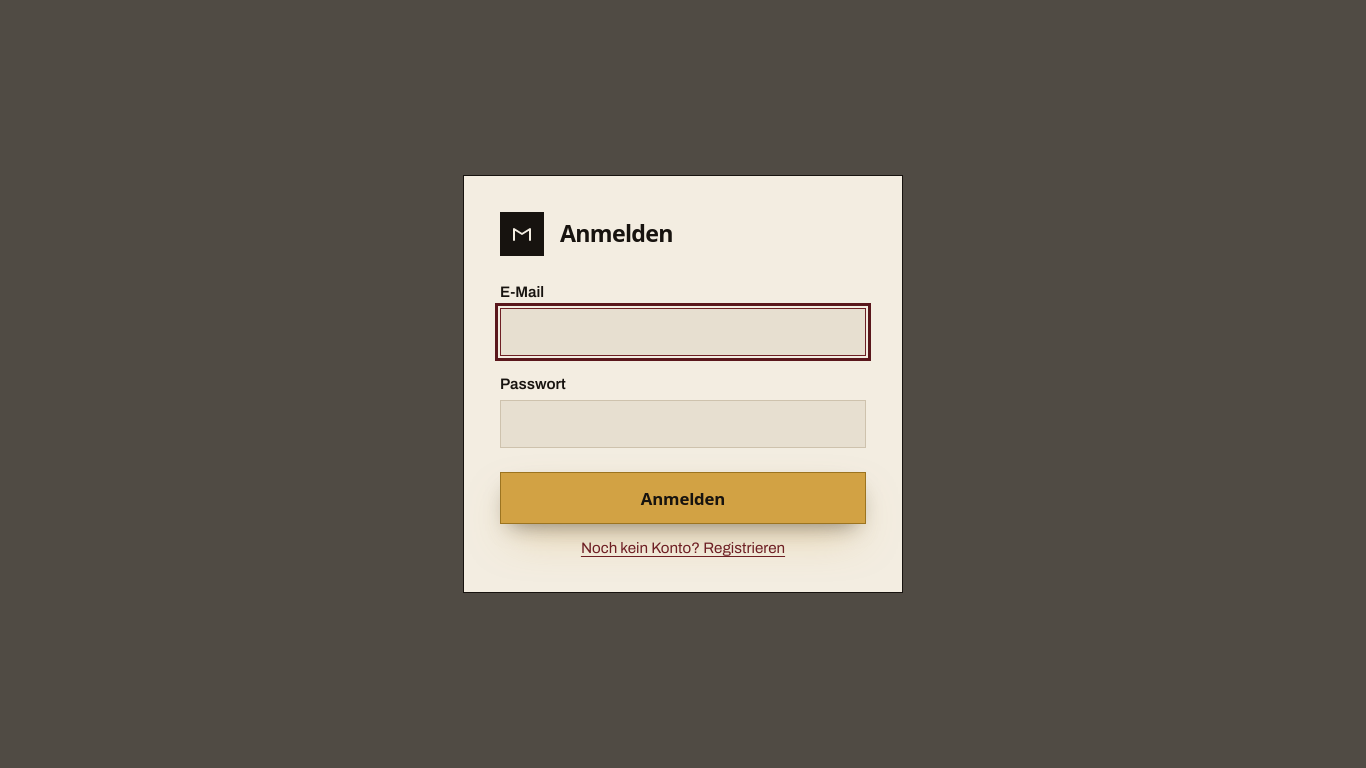
it: AuthModal › shows an error message when sign in fails
Type "a@b.com" into the field labelled "E-Mail" at (683, 332), box [500,308,866,356]
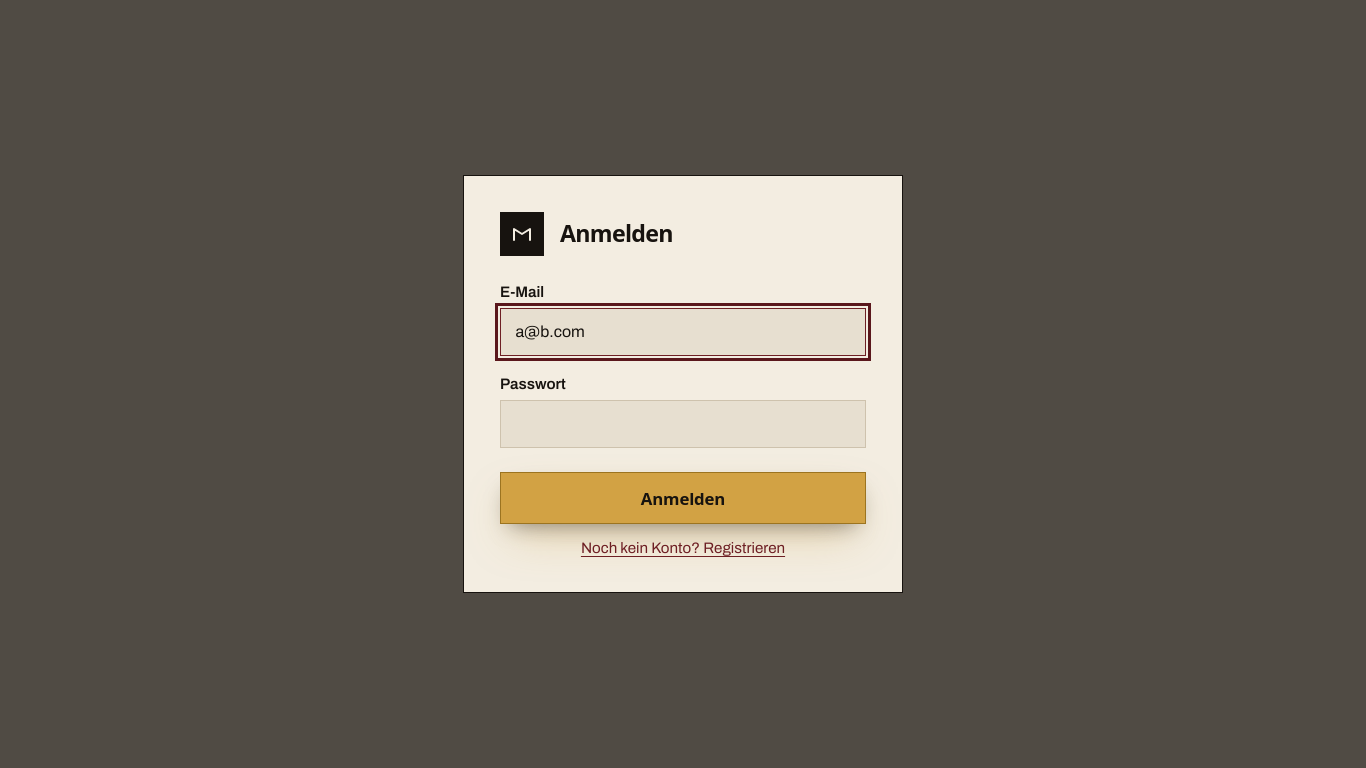
Type "wrong" into the password field labelled "Passwort" at (683, 424), box [500,400,866,448]
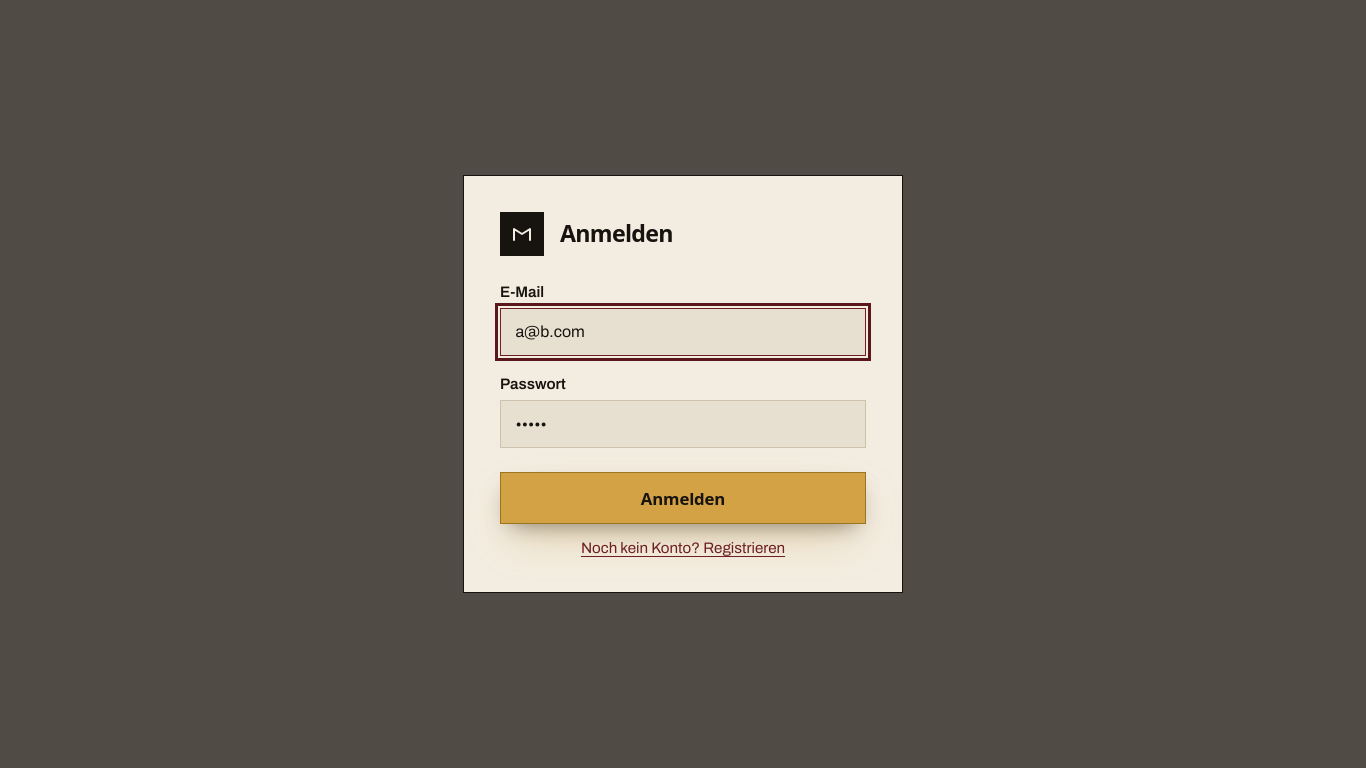
Click the button "Anmelden" at (683, 498), box [500,472,866,524]
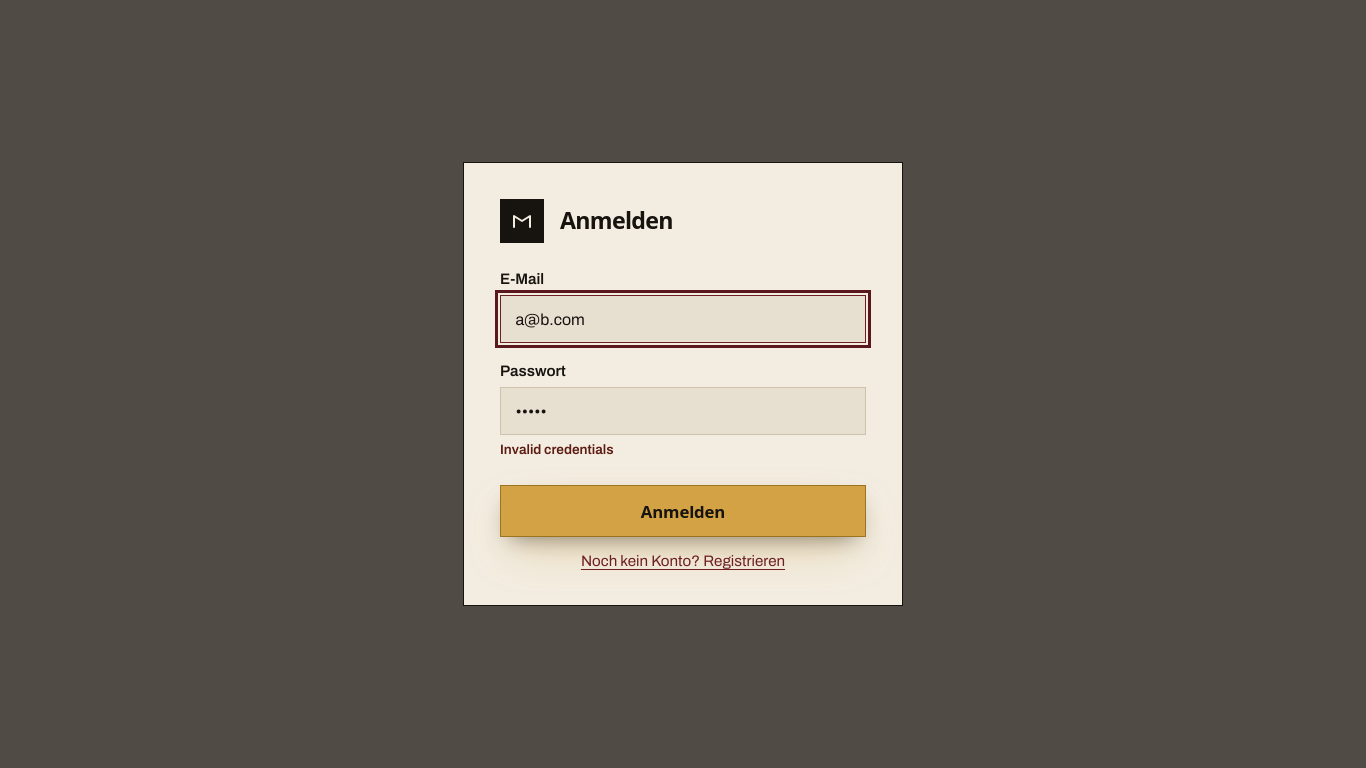
Expected: the text "Invalid credentials" is shown, [500,442,614,457]
